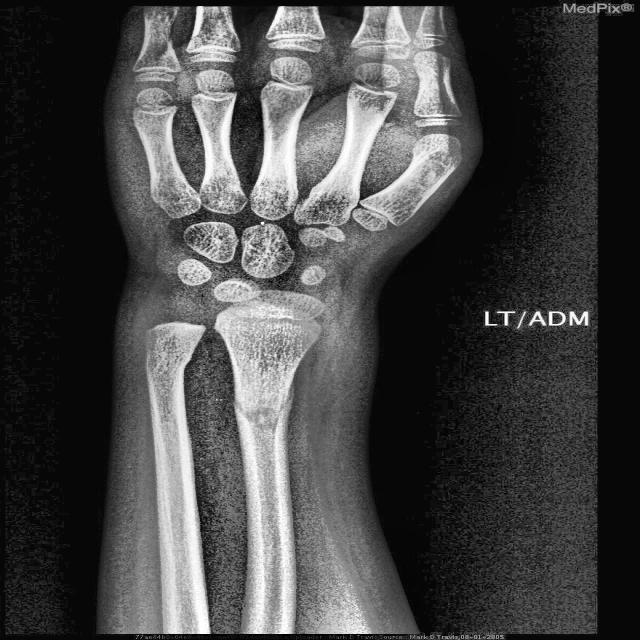line: (239, 405, 287, 433)
